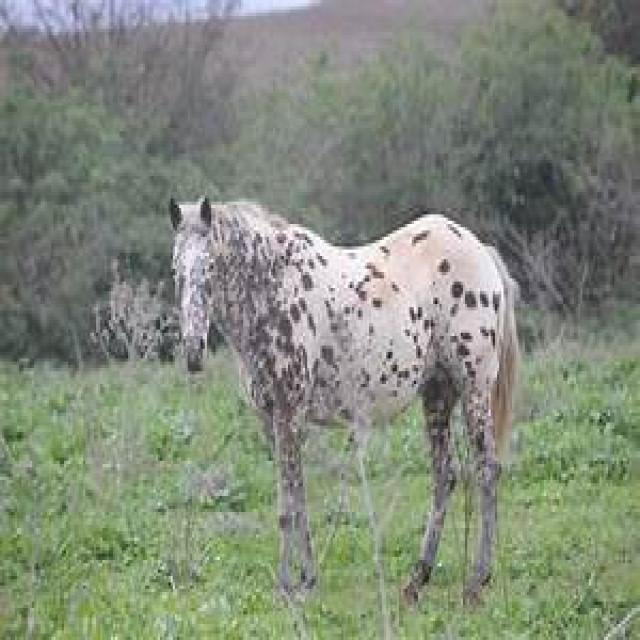animal: (167, 192, 520, 608)
